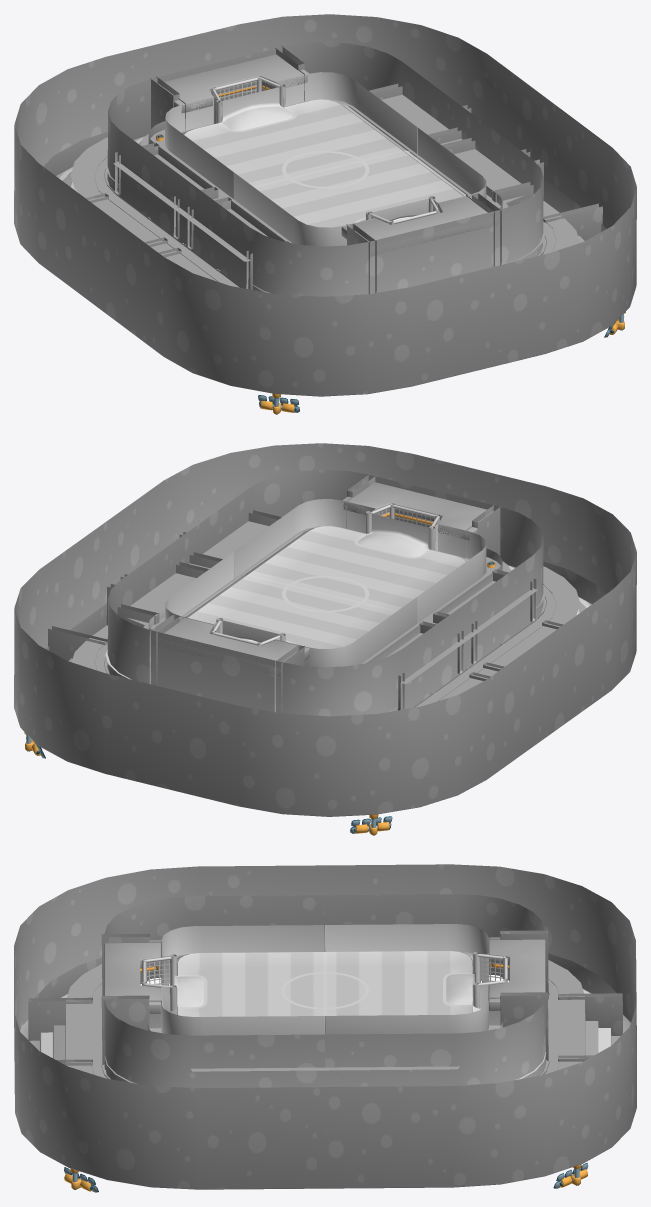
Rendered from stadium 1.fbx.
3 renders of one model, top to bottom at view 1: azimuth 30°, elevation 25°; view 2: azimuth 150°, elevation 25°; view 3: azimuth 270°, elevation 25°, orthographic.
Visible parts, largest first — view 1: Level10VisualsNets.042, Level10VisualsNets.038, Level10VisualsNets.027, Level10VisualsNets.009, Level10VisualsNets.596, Level10VisualsNets.598, Level10VisualsNets.044, Level10VisualsNets.616, Level10VisualsNets.046, Level10VisualsNets.611, Level10VisualsNets.020, Level10VisualsNets.637 (+15 smaller); view 2: Level10VisualsNets.038, Level10VisualsNets.042, Level10VisualsNets.009, Level10VisualsNets.027, Level10VisualsNets.598, Level10VisualsNets.596, Level10VisualsNets.044, Level10VisualsNets.642, Level10VisualsNets.045, Level10VisualsNets.637, Level10VisualsNets.611, Level10VisualsNets.020 (+15 smaller); view 3: Level10VisualsNets.038, Level10VisualsNets.042, Level10VisualsNets.009, Level10VisualsNets.027, Level10VisualsNets.596, Level10VisualsNets.598, Level10VisualsNets.044, Level10VisualsNets.611, Level10VisualsNets.637, Level10VisualsNets.616, Level10VisualsNets.642, Level10VisualsNets.046 (+16 smaller).
Boxes of the visible parts, bbox=[...] form: Level10VisualsNets.042: bbox=[101, 101, 636, 396]; Level10VisualsNets.038: bbox=[14, 14, 549, 309]; Level10VisualsNets.027: bbox=[182, 110, 546, 296]; Level10VisualsNets.009: bbox=[104, 42, 466, 244]; Level10VisualsNets.596: bbox=[184, 99, 401, 186]; Level10VisualsNets.598: bbox=[255, 151, 463, 227]; Level10VisualsNets.044: bbox=[70, 137, 579, 287]; Level10VisualsNets.616: bbox=[276, 72, 417, 157]; Level10VisualsNets.046: bbox=[157, 54, 308, 113]; Level10VisualsNets.611: bbox=[165, 97, 233, 198]; Level10VisualsNets.020: bbox=[299, 70, 524, 208]; Level10VisualsNets.637: bbox=[234, 172, 375, 246]; Level10VisualsNets.038: bbox=[14, 525, 549, 816]; Level10VisualsNets.042: bbox=[101, 443, 636, 734]; Level10VisualsNets.009: bbox=[104, 534, 468, 716]; Level10VisualsNets.027: bbox=[184, 469, 546, 668]; Level10VisualsNets.598: bbox=[249, 526, 466, 610]; Level10VisualsNets.596: bbox=[188, 576, 395, 648]; Level10VisualsNets.044: bbox=[71, 566, 580, 707]; Level10VisualsNets.642: bbox=[234, 499, 375, 581]; Level10VisualsNets.045: bbox=[342, 482, 493, 540]; Level10VisualsNets.637: bbox=[417, 524, 486, 623]; Level10VisualsNets.611: bbox=[276, 597, 417, 667]; Level10VisualsNets.020: bbox=[128, 497, 352, 629]; Level10VisualsNets.038: bbox=[325, 864, 636, 1188]; Level10VisualsNets.042: bbox=[14, 865, 325, 1189]; Level10VisualsNets.009: bbox=[325, 894, 549, 1086]; Level10VisualsNets.027: bbox=[101, 895, 325, 1088]; Level10VisualsNets.596: bbox=[327, 951, 472, 1015]; Level10VisualsNets.598: bbox=[178, 952, 323, 1016]; Level10VisualsNets.044: bbox=[66, 960, 584, 1079]; Level10VisualsNets.611: bbox=[325, 924, 489, 980]; Level10VisualsNets.637: bbox=[161, 925, 324, 972]; Level10VisualsNets.616: bbox=[325, 985, 488, 1034]; Level10VisualsNets.642: bbox=[161, 987, 324, 1035]; Level10VisualsNets.046: bbox=[489, 937, 545, 1010].
Size of the model in its own units: 4772 by 1428 by 5667.
Materials: 15 (13 with a texture image).
